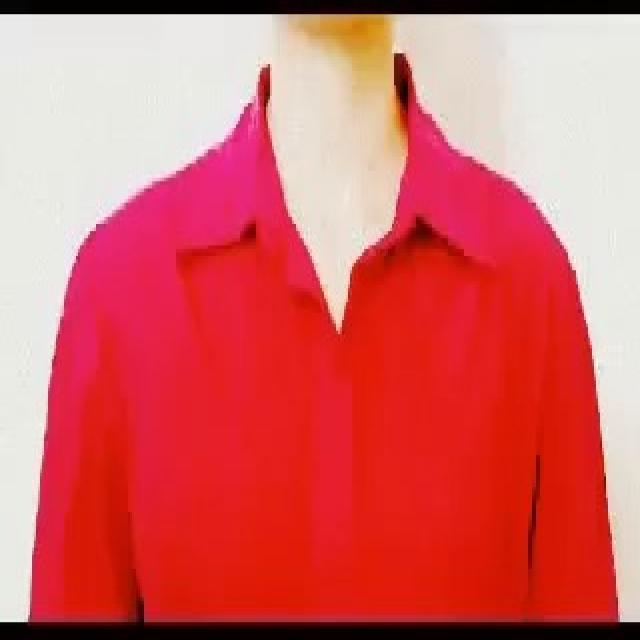shirt: (28, 50, 620, 622)
